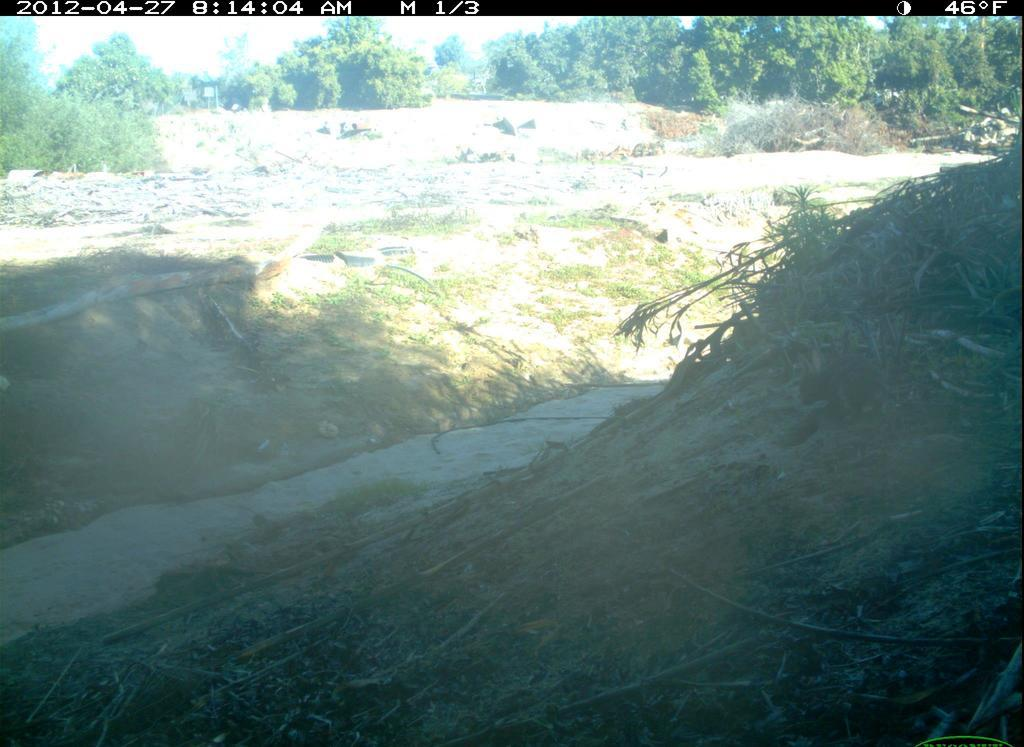rabbit: (797, 344, 888, 427)
